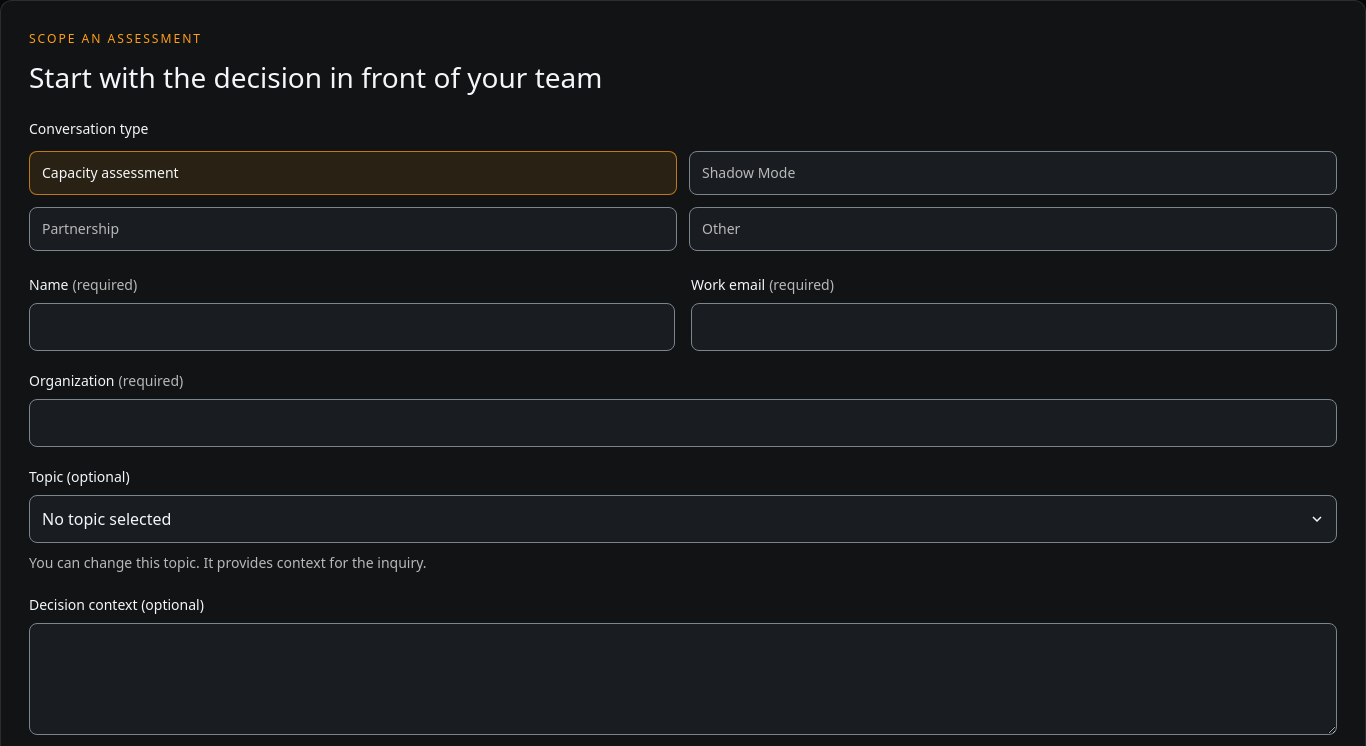
truthful contact intake › waits for refreshed verification after an uncertain failure while retaining the original inquiry
The width and height of the screenshot is (1366, 746).
In the field labelled "Name": (352, 327) [29,303,675,351], type "Alex Operator"
In the field labelled "Work email": (1014, 327) [691,303,1337,351], type "alex@example.com"
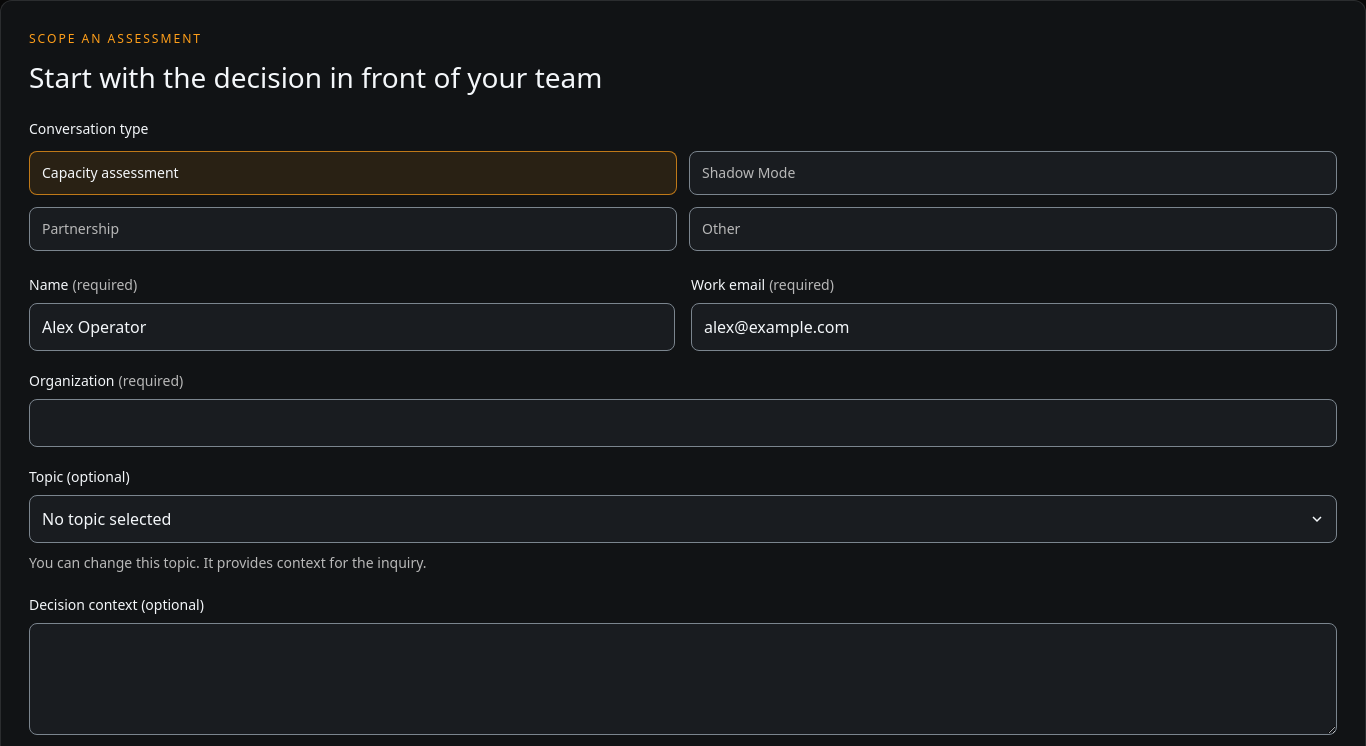
In the field labelled "Organization": (683, 423) [29,399,1337,447], type "Example Compute"
(page scrolled)
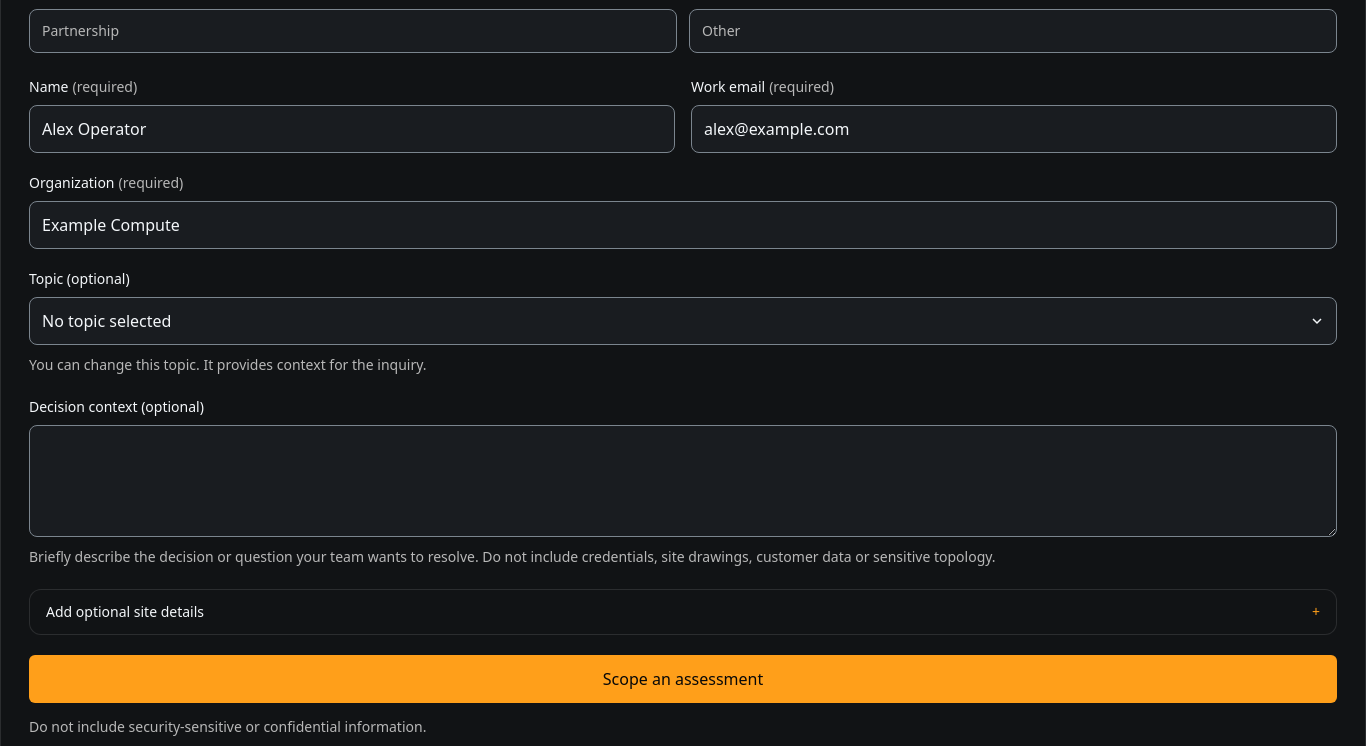
Click the button "Scope an assessment": (683, 679) [29,655,1337,703]
(page scrolled)
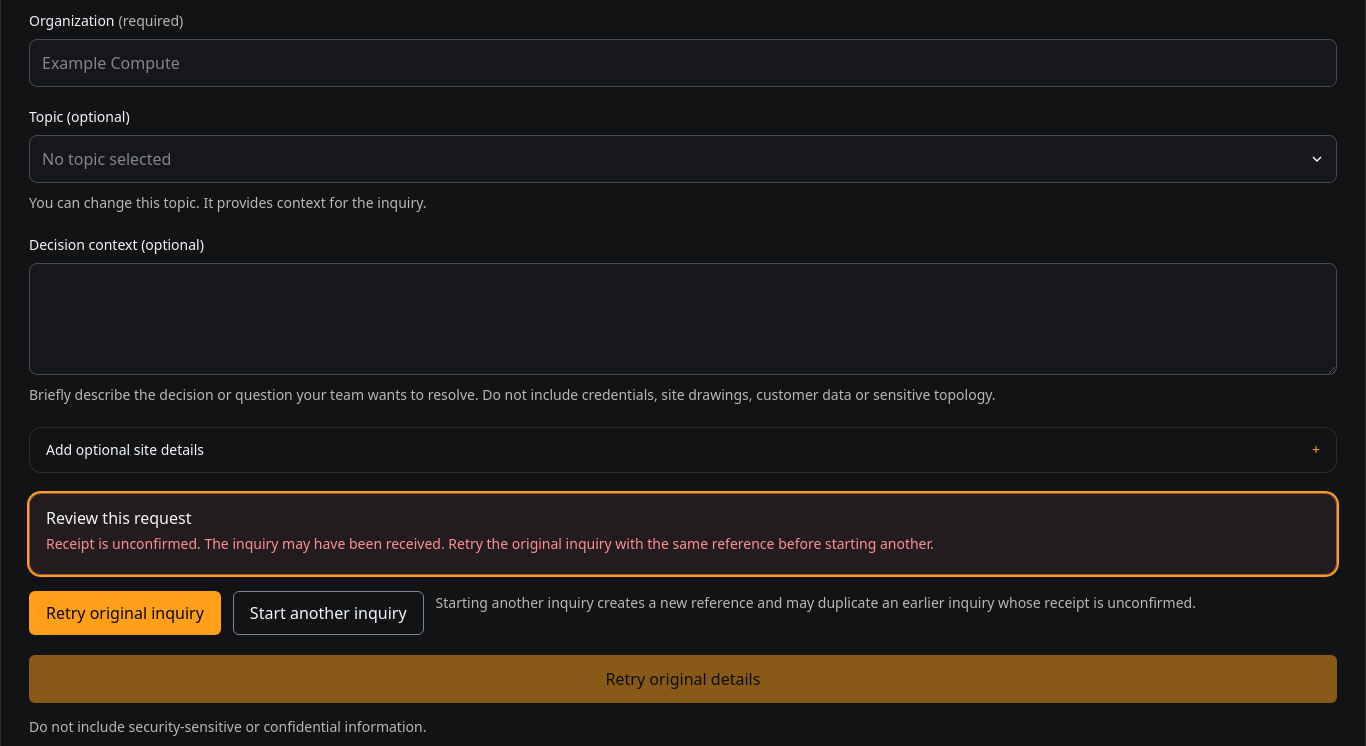
Result: the text "Receipt is unconfirmed" is shown at [46,534,934,553]
Click the button "Retry original inquiry": (125, 613) [29,591,221,635]
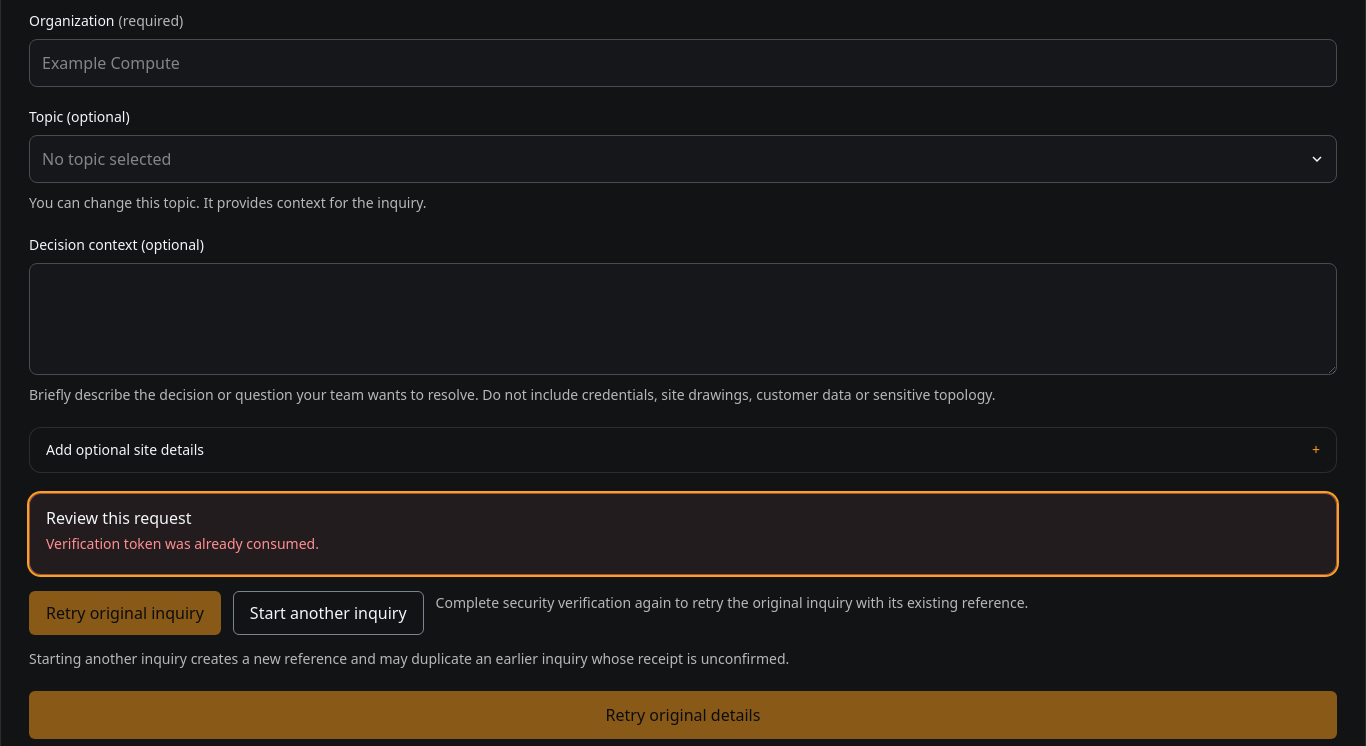
Expected: the field labelled "Organization" is disabled, [29,39,1337,87]
Result: the text "Verification token was already consumed." is shown at [46,534,319,553]
Result: the button "Retry original inquiry" is disabled
Click the button "Retry original inquiry": (125, 613) [29,591,221,635]
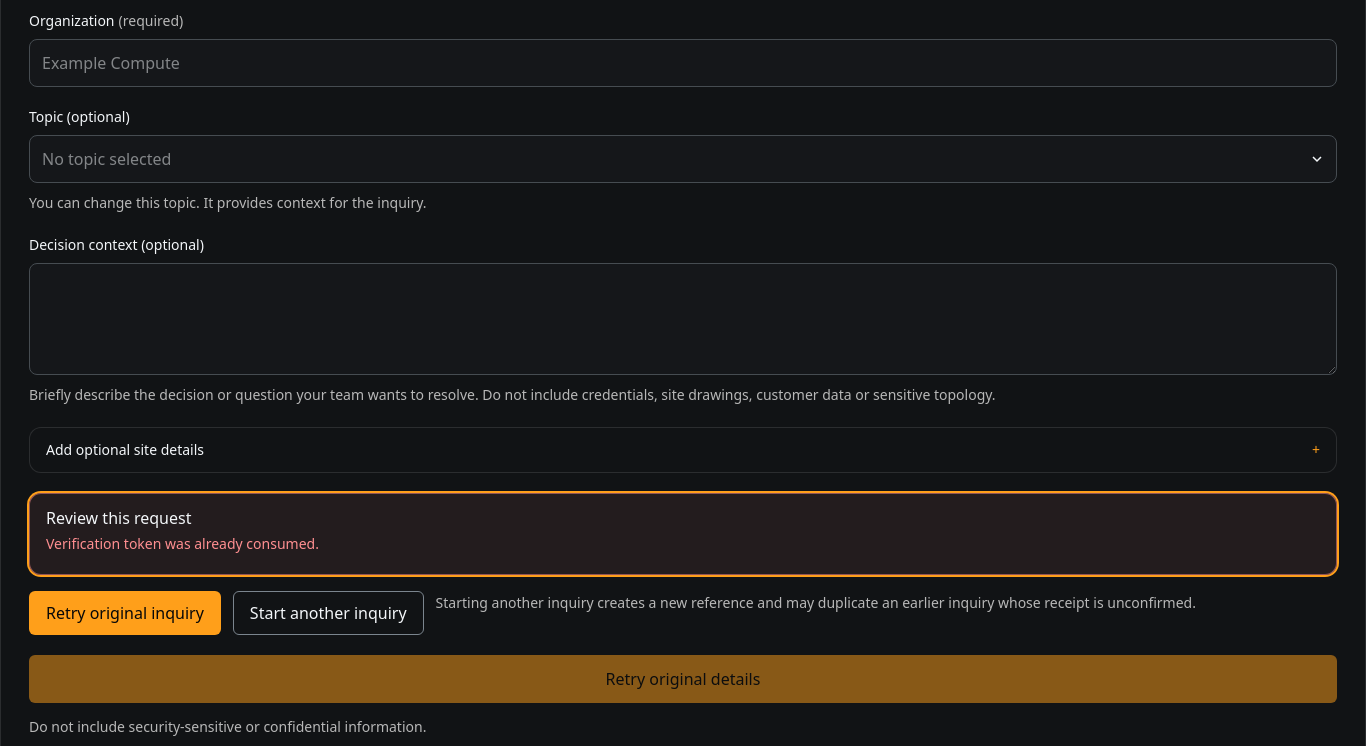
Result: the button "Retry original inquiry" is enabled
Click the button "Retry original inquiry": (125, 613) [29,591,221,635]
(page scrolled)
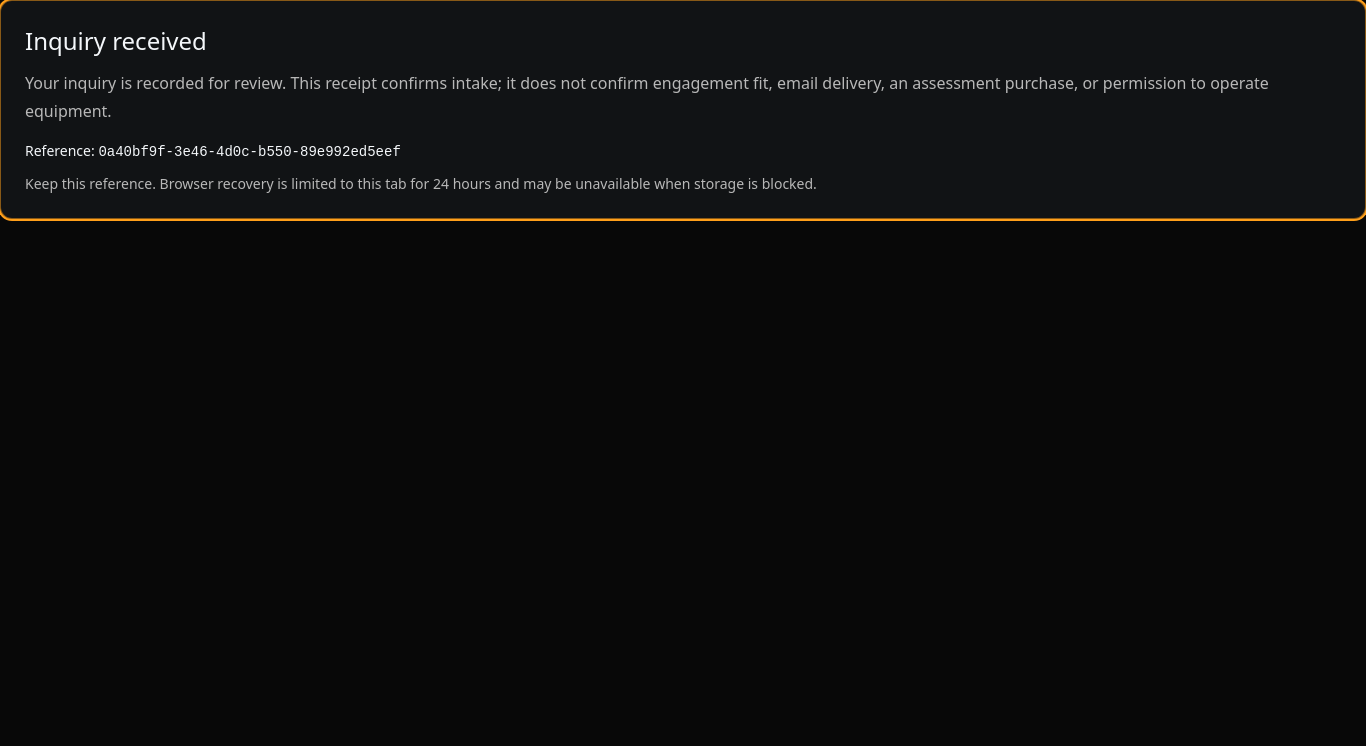
Result: the heading "Inquiry received" is shown at [25,24,207,57]
